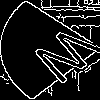W: (25, 25, 100, 91)
